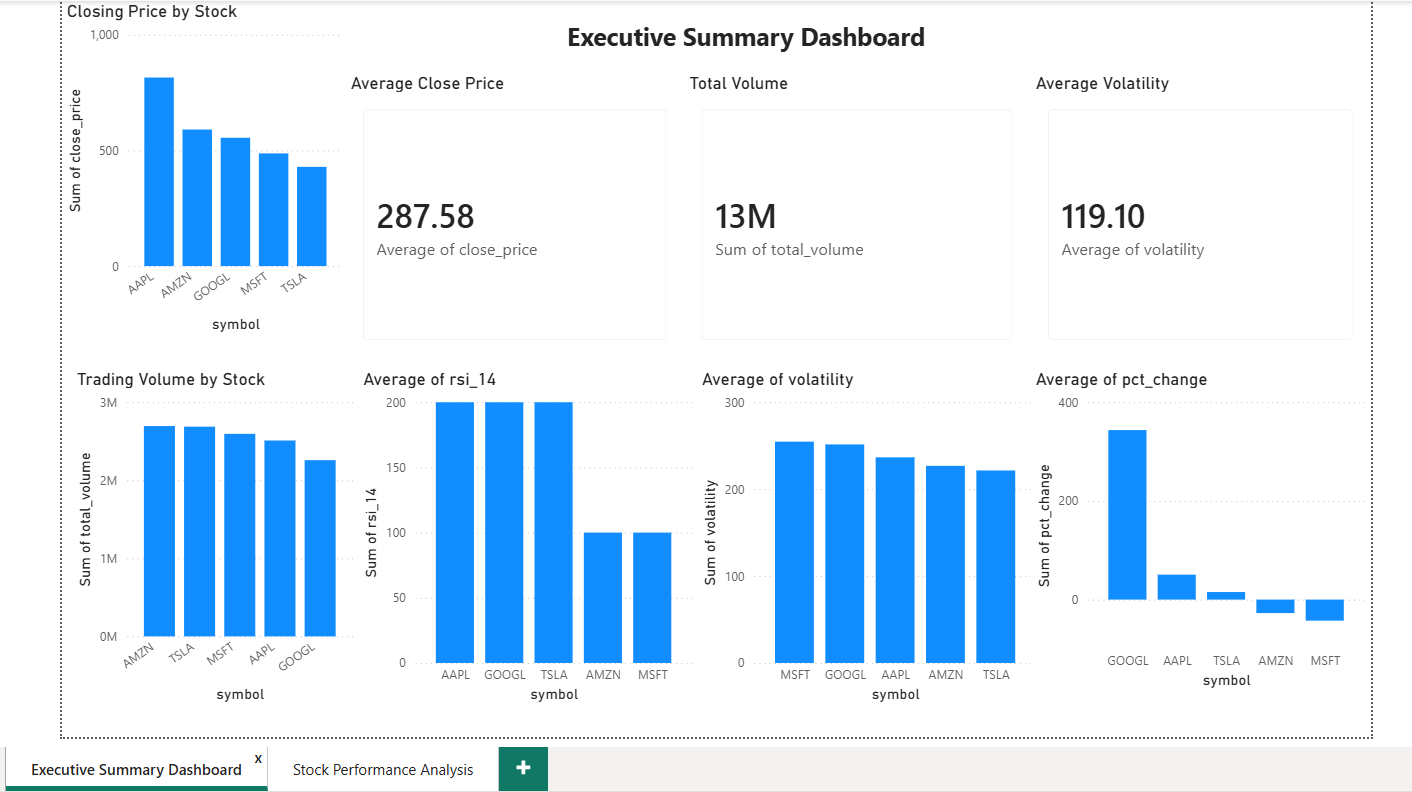

The dashboard page shown, as its layout file describes it:
{"tool":"powerbi","page":{"name":"Executive Summary Dashboard","canvas":[1280,720],"ordinal":0},"visuals":[{"type":"clusteredColumnChart","title":"Closing Price by Stock","fields":{"Category":["public gold_daily_metrics.symbol"],"Y":["Sum(public gold_daily_metrics.close_price)"]},"box":[0,0,279.9,329.3],"z":0},{"type":"clusteredColumnChart","title":"Trading Volume by Stock","fields":{"Category":["public gold_daily_metrics.symbol"],"Y":["Sum(public gold_daily_metrics.total_volume)"]},"box":[9.6,359.5,279.9,332.1],"z":1},{"type":"clusteredColumnChart","title":"Average of rsi_14","fields":{"Category":["public gold_daily_metrics.symbol"],"Y":["Sum(public gold_daily_metrics.rsi_14)"]},"box":[289.5,359.5,332.1,332.1],"z":2},{"type":"clusteredColumnChart","title":"Average of volatility","fields":{"Category":["public gold_daily_metrics.symbol"],"Y":["Sum(public gold_daily_metrics.volatility)"]},"box":[621.6,359.5,337.6,332.1],"z":3},{"type":"clusteredColumnChart","title":"Average of pct_change","fields":{"Category":["public gold_daily_metrics.symbol"],"Y":["Sum(public gold_daily_metrics.pct_change)"]},"box":[948.2,359.5,332.1,318.4],"z":4},{"type":"cardVisual","title":"Average Close Price","fields":{"Data":["Avg(public gold_daily_metrics.close_price)"]},"box":[277.6,69.7,331.4,280],"z":5},{"type":"cardVisual","title":"Total Volume","fields":{"Data":["Sum(public gold_daily_metrics.total_volume)"]},"box":[609,69.7,338.7,280],"z":6},{"type":"cardVisual","title":"Average Volatility","fields":{"Data":["Avg(public gold_daily_metrics.volatility)"]},"box":[947.7,69.7,332.6,280],"z":7},{"type":"textbox","box":[489.1,13.5,578.4,56.3],"z":8}]}

Visuals, with their boxes on the page's 1280x720 design canvas (x1, y1, x2, y2). These are canvas units, not pixel positions in the 1412x792 screenshot, which may show the page scaled, cropped or inside an application window:
"Closing Price by Stock" clusteredColumnChart: Rect(0, 0, 280, 329)
"Trading Volume by Stock" clusteredColumnChart: Rect(10, 360, 290, 692)
"Average of rsi_14" clusteredColumnChart: Rect(290, 360, 622, 692)
"Average of volatility" clusteredColumnChart: Rect(622, 360, 959, 692)
"Average of pct_change" clusteredColumnChart: Rect(948, 360, 1280, 678)
"Average Close Price" cardVisual: Rect(278, 70, 609, 350)
"Total Volume" cardVisual: Rect(609, 70, 948, 350)
"Average Volatility" cardVisual: Rect(948, 70, 1280, 350)
textbox: Rect(489, 14, 1068, 70)
